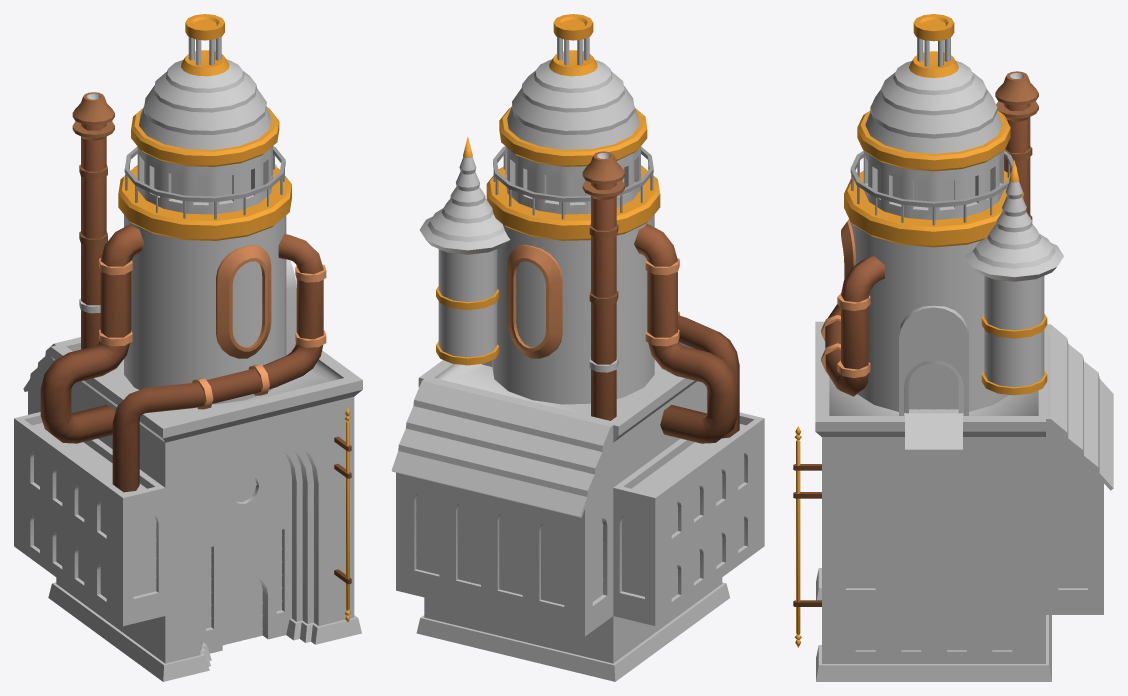
File: building_006.fbx
3 renders of one model, left to right at view 1: azimuth 30°, elevation 25°; view 2: azimuth 150°, elevation 25°; view 3: azimuth 270°, elevation 25°, orthographic. The views are drawn at different scales.
Parts seen in each view (by area): view 1: building_006; view 2: building_006; view 3: building_006.
Boxes of the visible parts, bbox=[...] form: building_006: bbox=[14, 14, 362, 681]; building_006: bbox=[391, 14, 764, 681]; building_006: bbox=[793, 14, 1113, 681].
Bounding box in the file's own units: 2933 × 2943 × 6184.
